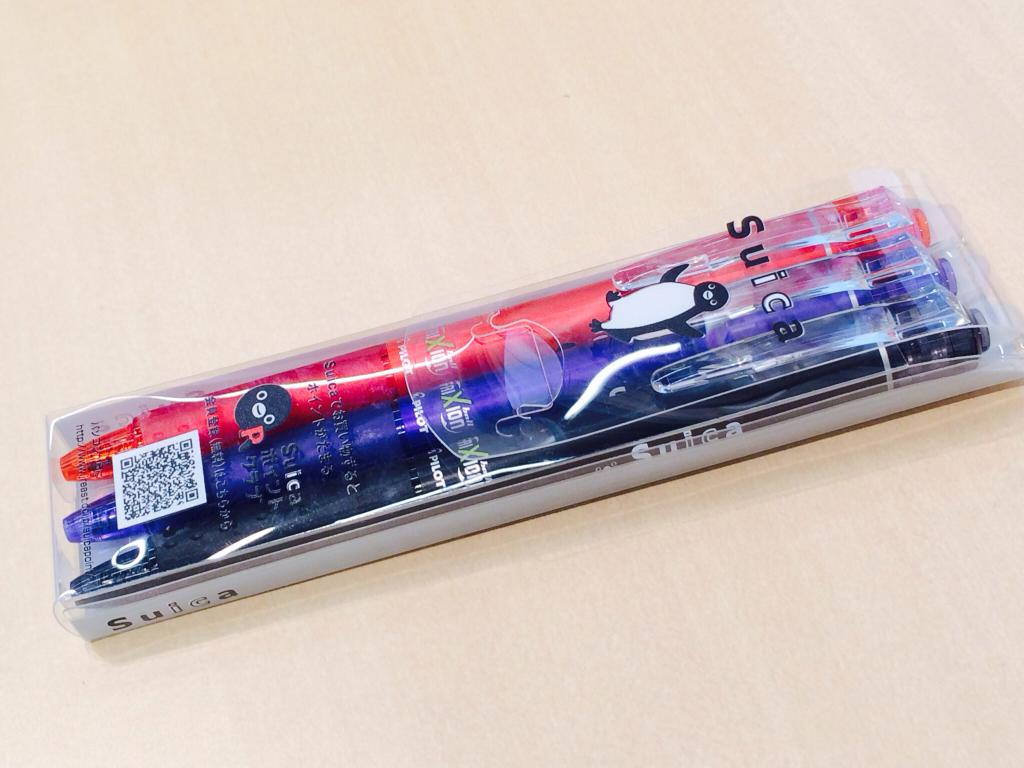Pen: (65, 204, 1001, 603)
